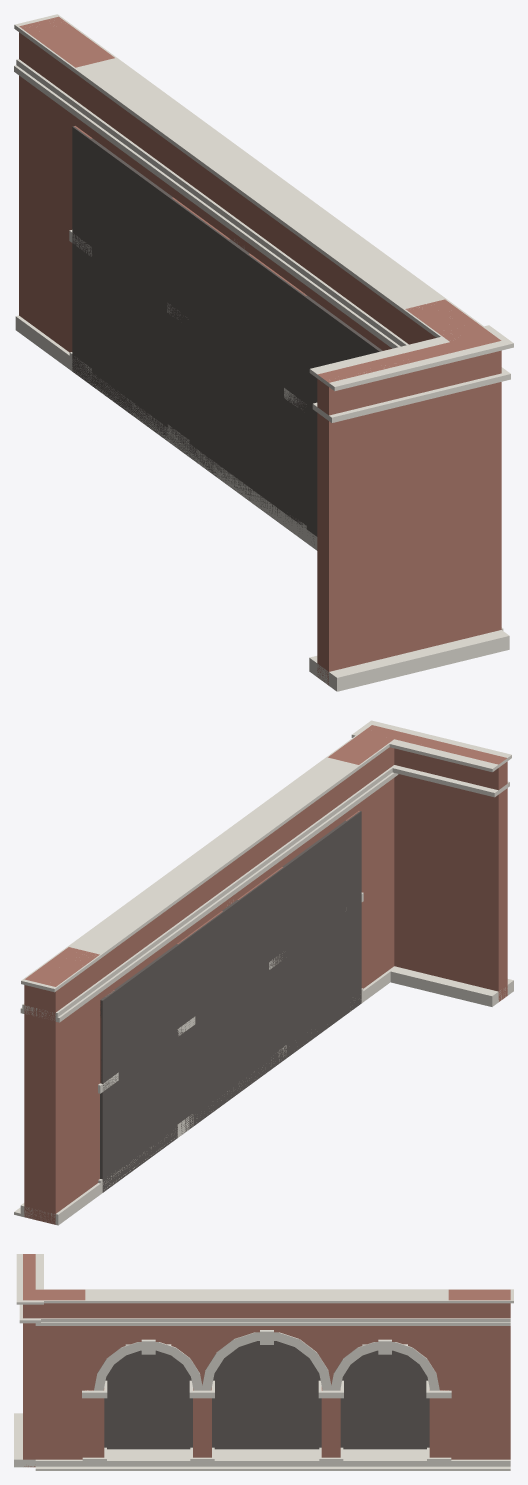
File: place_des_vosges.glb
The picture shows the model from 3 angles, top to bottom: view 1: azimuth 30°, elevation 25°; view 2: azimuth 150°, elevation 25°; view 3: azimuth 270°, elevation 25°; orthographic projection. The views are drawn at different scales.
Visible parts, largest first — view 1: place_des_vosges; view 2: place_des_vosges; view 3: place_des_vosges.
Part boxes in pixels (<box>): place_des_vosges: <box>14,14,513,691</box>; place_des_vosges: <box>14,720,513,1225</box>; place_des_vosges: <box>14,1254,513,1470</box>.
Size of the model in its own units: 5.6 by 8.72 by 23.68.
